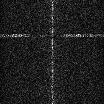wifi: (1, 34, 104, 36)
